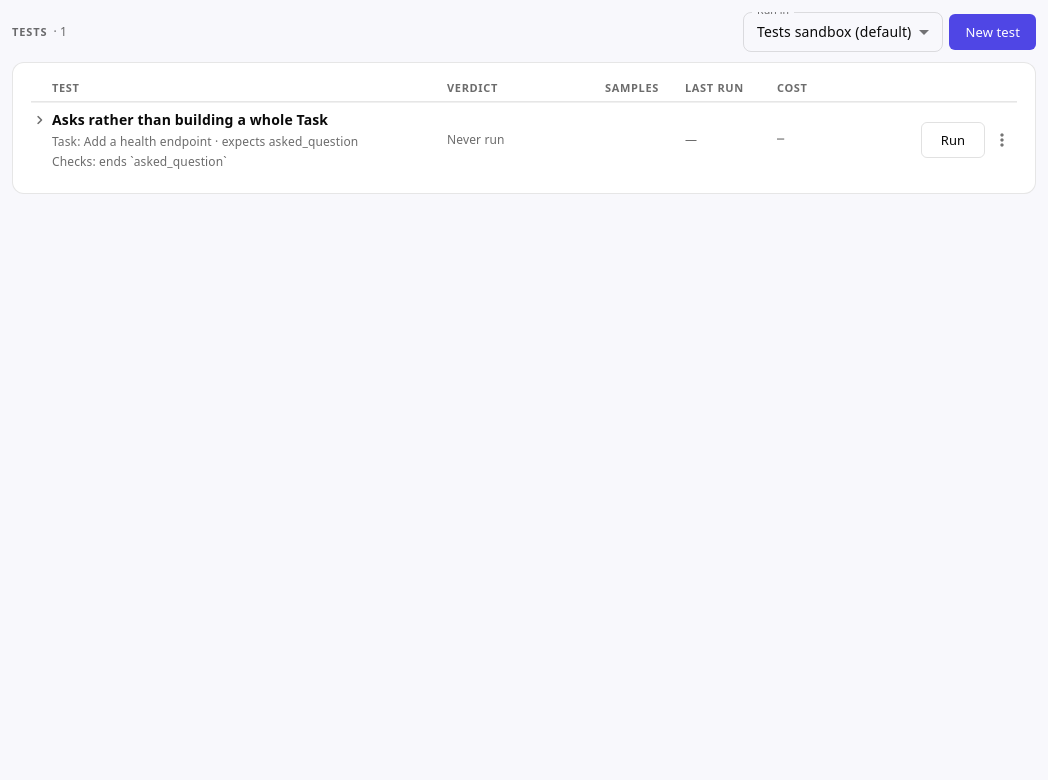
Test: TestsTabContent › confirms when a single test starts, and when several do
Click the button "Run". click: (953, 140)
box: [921,122,985,158]
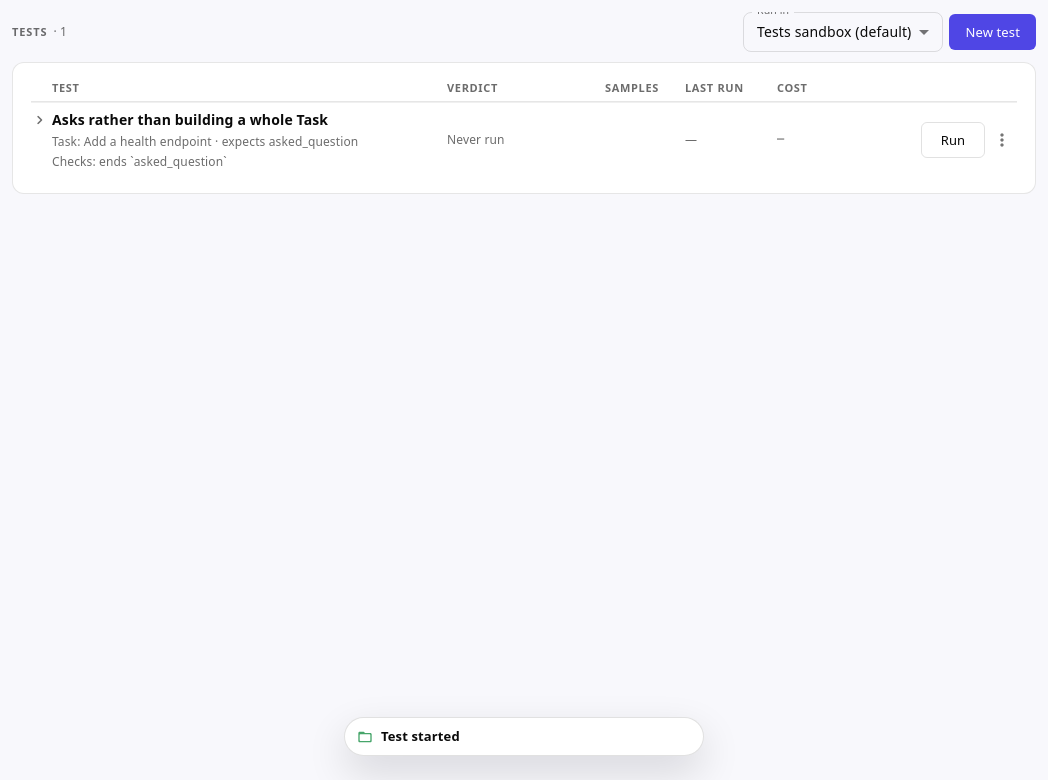
Check: the text "Test started" is shown, box [381,727,460,745]
